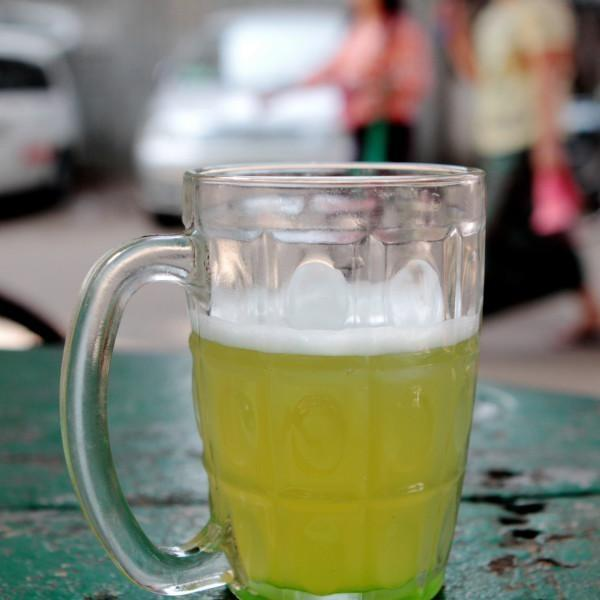glass-mug: (63, 163, 491, 599)
